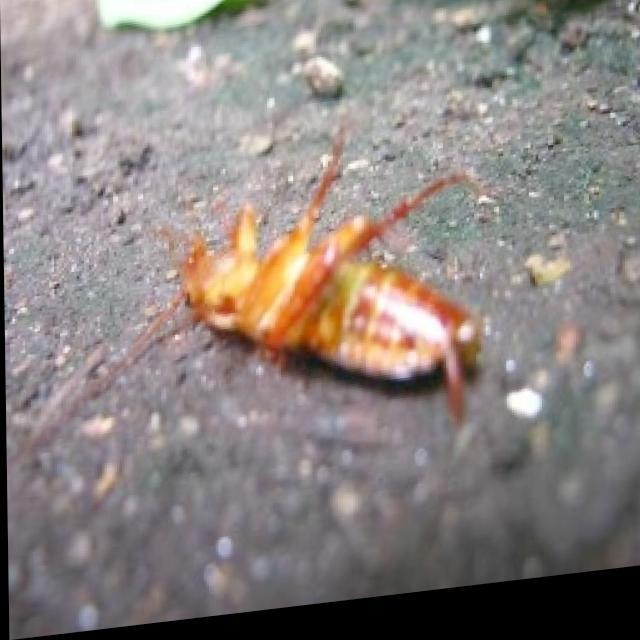cockroach: (160, 154, 501, 408)
